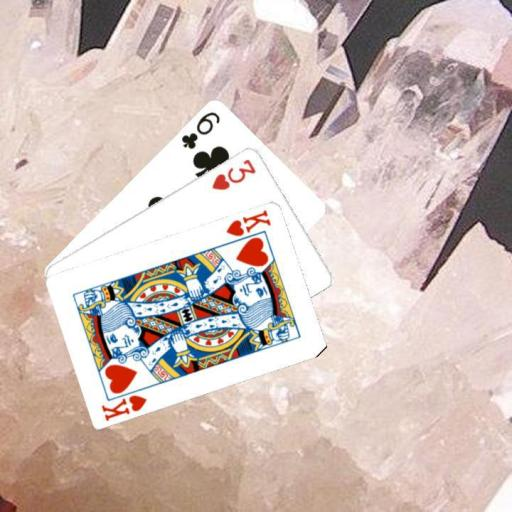3H: (208, 155, 258, 191)
6C: (178, 107, 222, 150)
KH: (223, 206, 273, 238), (98, 391, 149, 422)
